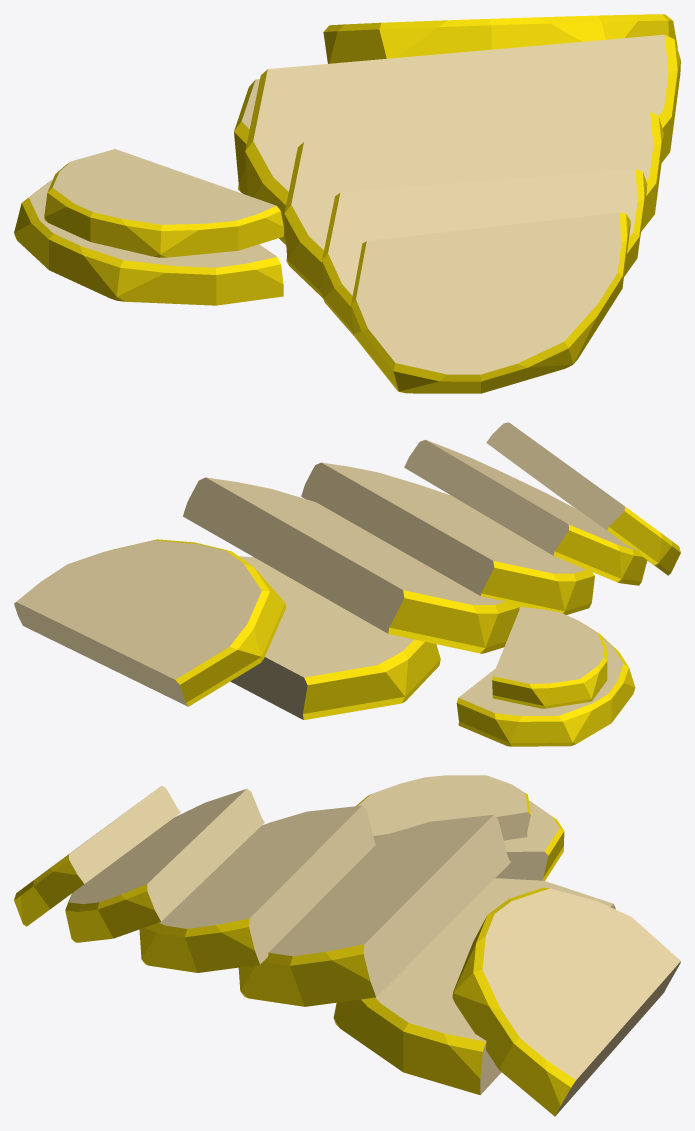
The model's file is ManzanaAmarillaCortada.fbx.
3 views of the same model, one above another, from view 1: azimuth 30°, elevation 25°; view 2: azimuth 150°, elevation 25°; view 3: azimuth 270°, elevation 25° (orthographic). The views are drawn at different scales.
Parts seen in each view (by area): view 1: Manzana(A)Cortada; view 2: Manzana(A)Cortada; view 3: Manzana(A)Cortada.
Boxes of the visible parts, x1,y1,x2,y2 form: Manzana(A)Cortada: (14,14,680,393); Manzana(A)Cortada: (14,422,680,746); Manzana(A)Cortada: (14,775,680,1116).
Bounding box in the file's own units: 10.98 × 2.16 × 10.52.
